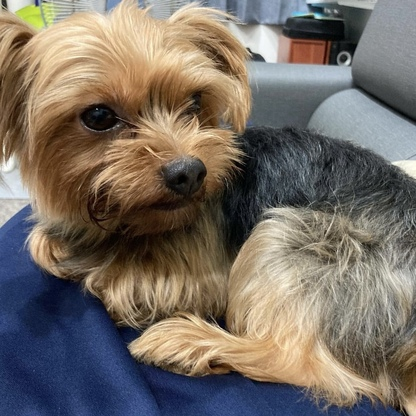yorkshire: (3, 9, 413, 398)
